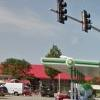Traffic light: (50, 2, 95, 32)
